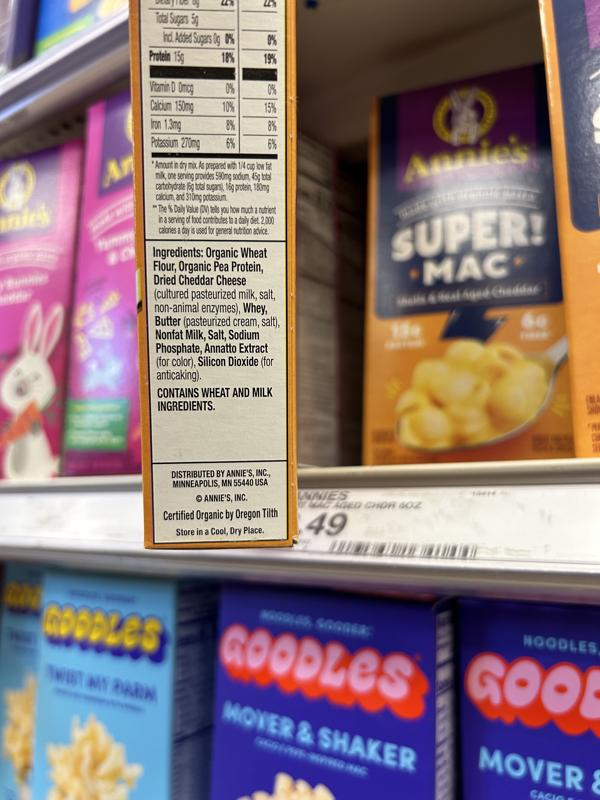ingredients: (151, 246, 281, 383)
